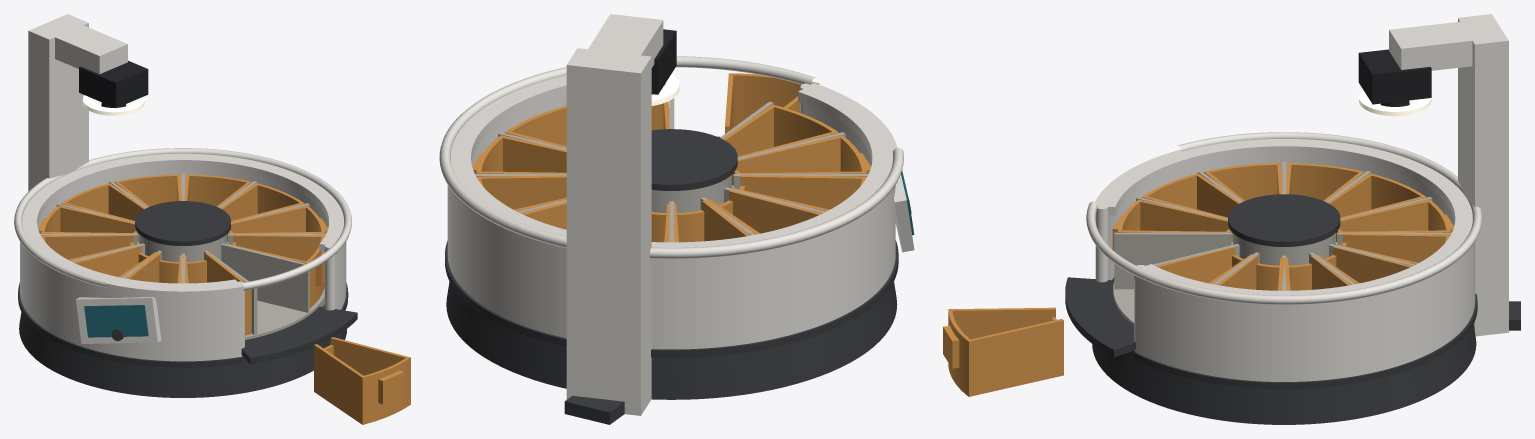
The model's file is medicine-dispenser.glb.
The picture shows the model from 3 angles, left to right: view 1: azimuth 30°, elevation 25°; view 2: azimuth 150°, elevation 25°; view 3: azimuth 270°, elevation 25°; orthographic projection. The views are drawn at different scales.
Parts seen in each view (by area): view 1: outer_shell_wall, shell_top_rim, base_plinth, gantry_mast, shell_top_edge, hub_cap, handoff_shelf, separating_wall_3, pod_side_wall_3b, gantry_arm, camera_housing, panel_screen (+26 smaller); view 2: outer_shell_wall, gantry_mast, base_plinth, shell_top_rim, shell_top_edge, hub_cap, shell_skirt, pod_side_wall_6a, pod_side_wall_5a, gantry_arm, pod_side_wall_11b, pod_outer_wall_3 (+16 smaller); view 3: outer_shell_wall, base_plinth, gantry_mast, shell_top_rim, shell_top_edge, pod_side_wall_3a, hub_cap, handoff_shelf, gantry_arm, separating_wall_4, camera_housing, shell_skirt (+22 smaller).
Boxes of the visible parts, x1=… form: outer_shell_wall: x1=20, y1=167, x2=346, y2=361; shell_top_rim: x1=22, y1=153, x2=343, y2=298; base_plinth: x1=19, y1=304, x2=346, y2=397; gantry_mast: x1=28, y1=14, x2=88, y2=191; shell_top_edge: x1=14, y1=148, x2=351, y2=290; hub_cap: x1=135, y1=201, x2=230, y2=245; handoff_shelf: x1=241, y1=306, x2=357, y2=364; separating_wall_3: x1=221, y1=243, x2=309, y2=312; pod_side_wall_3b: x1=314, y1=344, x2=365, y2=424; gantry_arm: x1=55, y1=25, x2=127, y2=74; camera_housing: x1=79, y1=60, x2=148, y2=107; panel_screen: x1=84, y1=305, x2=148, y2=337; outer_shell_wall: x1=447, y1=95, x2=895, y2=349; gantry_mast: x1=566, y1=48, x2=651, y2=415; base_plinth: x1=446, y1=281, x2=897, y2=399; shell_top_rim: x1=450, y1=75, x2=897, y2=263; shell_top_edge: x1=439, y1=56, x2=903, y2=258; hub_cap: x1=651, y1=129, x2=737, y2=190; shell_skirt: x1=445, y1=240, x2=898, y2=357; pod_side_wall_6a: x1=740, y1=175, x2=866, y2=209; pod_side_wall_5a: x1=735, y1=135, x2=842, y2=172; gantry_arm: x1=583, y1=14, x2=663, y2=67; pod_side_wall_11b: x1=476, y1=175, x2=566, y2=209; pod_outer_wall_3: x1=731, y1=73, x2=816, y2=127; outer_shell_wall: x1=1108, y1=154, x2=1475, y2=381; base_plinth: x1=1092, y1=277, x2=1476, y2=424; gantry_mast: x1=1458, y1=14, x2=1508, y2=336; shell_top_rim: x1=1095, y1=139, x2=1472, y2=308; shell_top_edge: x1=1086, y1=132, x2=1482, y2=304; pod_side_wall_3a: x1=967, y1=319, x2=1063, y2=396; hub_cap: x1=1228, y1=194, x2=1340, y2=246; handoff_shelf: x1=1065, y1=277, x2=1135, y2=357; gantry_arm: x1=1389, y1=21, x2=1472, y2=70; separating_wall_4: x1=1114, y1=232, x2=1231, y2=289; camera_housing: x1=1358, y1=49, x2=1431, y2=104; shell_skirt: x1=1134, y1=294, x2=1477, y2=389.
Bounding box in the file's own units: 0.3379 × 0.275 × 0.4932.
